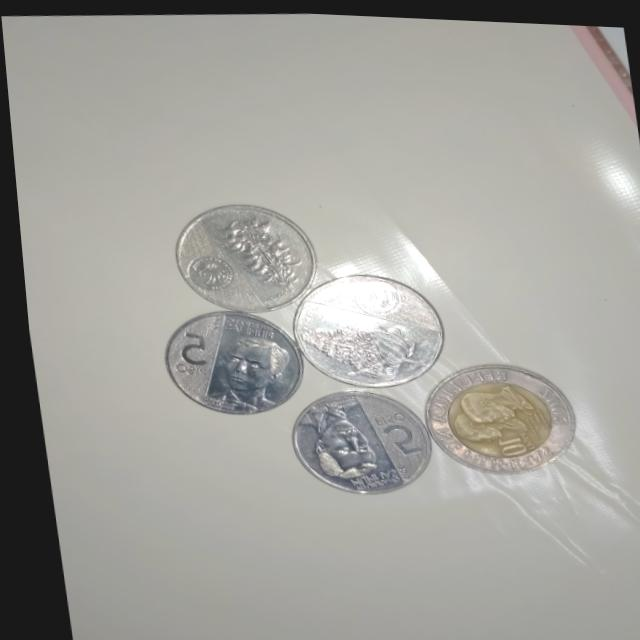10_New_Back: (297, 314, 424, 382)
10_Old_Front: (481, 422, 541, 457)
5_New_Back: (213, 205, 303, 300)
5_New_Front: (163, 321, 218, 379), (364, 405, 415, 451)
